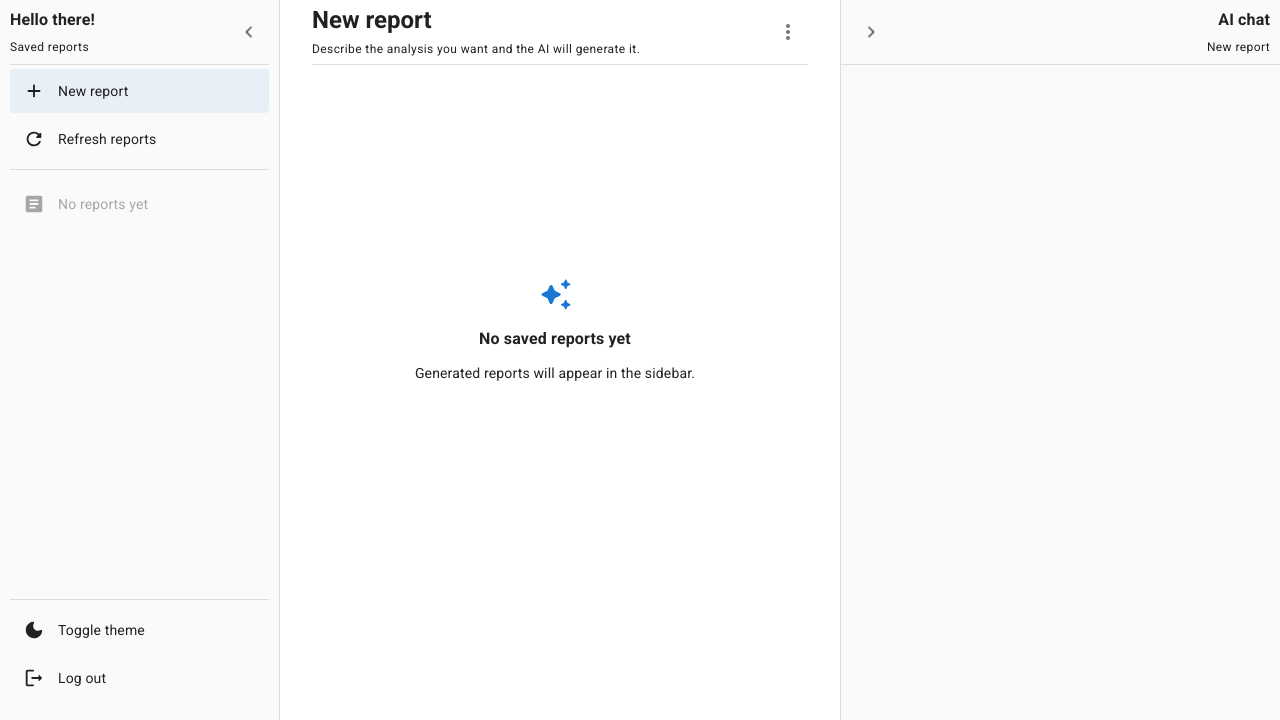
Scenario: <App /> › logs out user and navigates to login page
Click the button "Log out". click: (65, 678)
box: [23,667,106,689]
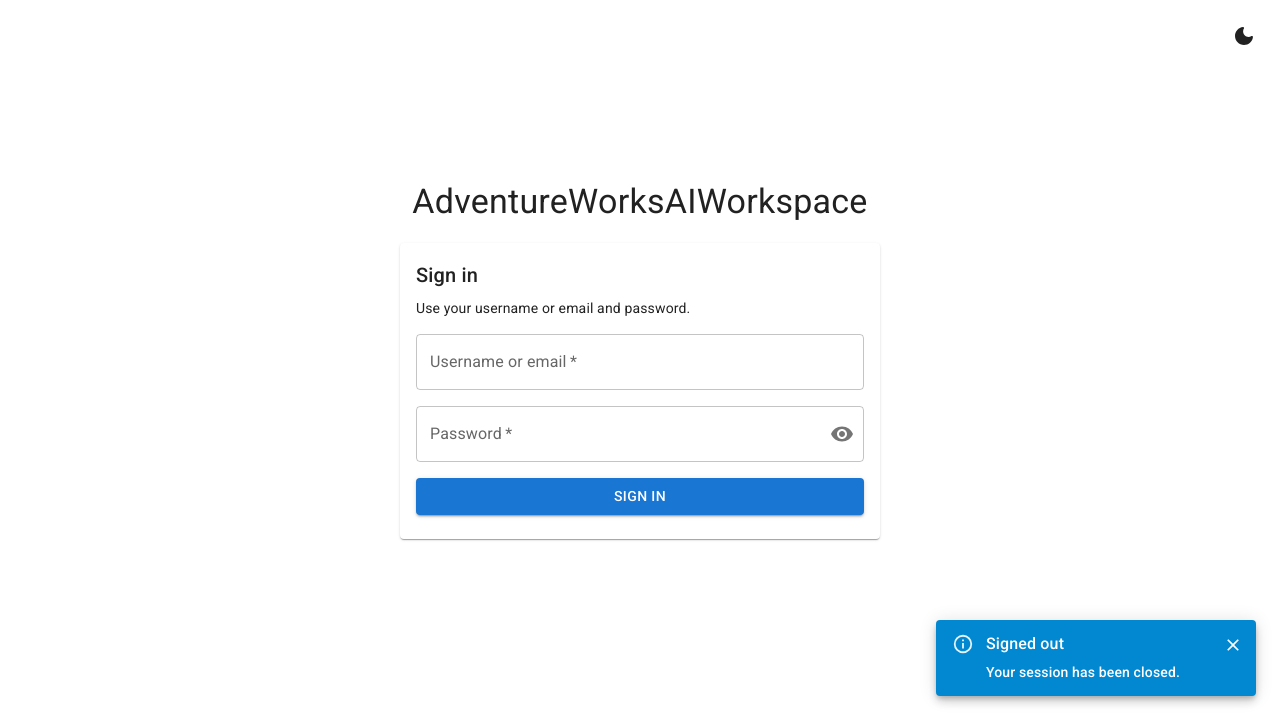
Now the heading "Sign in" is shown, box [416,263,478,287]
